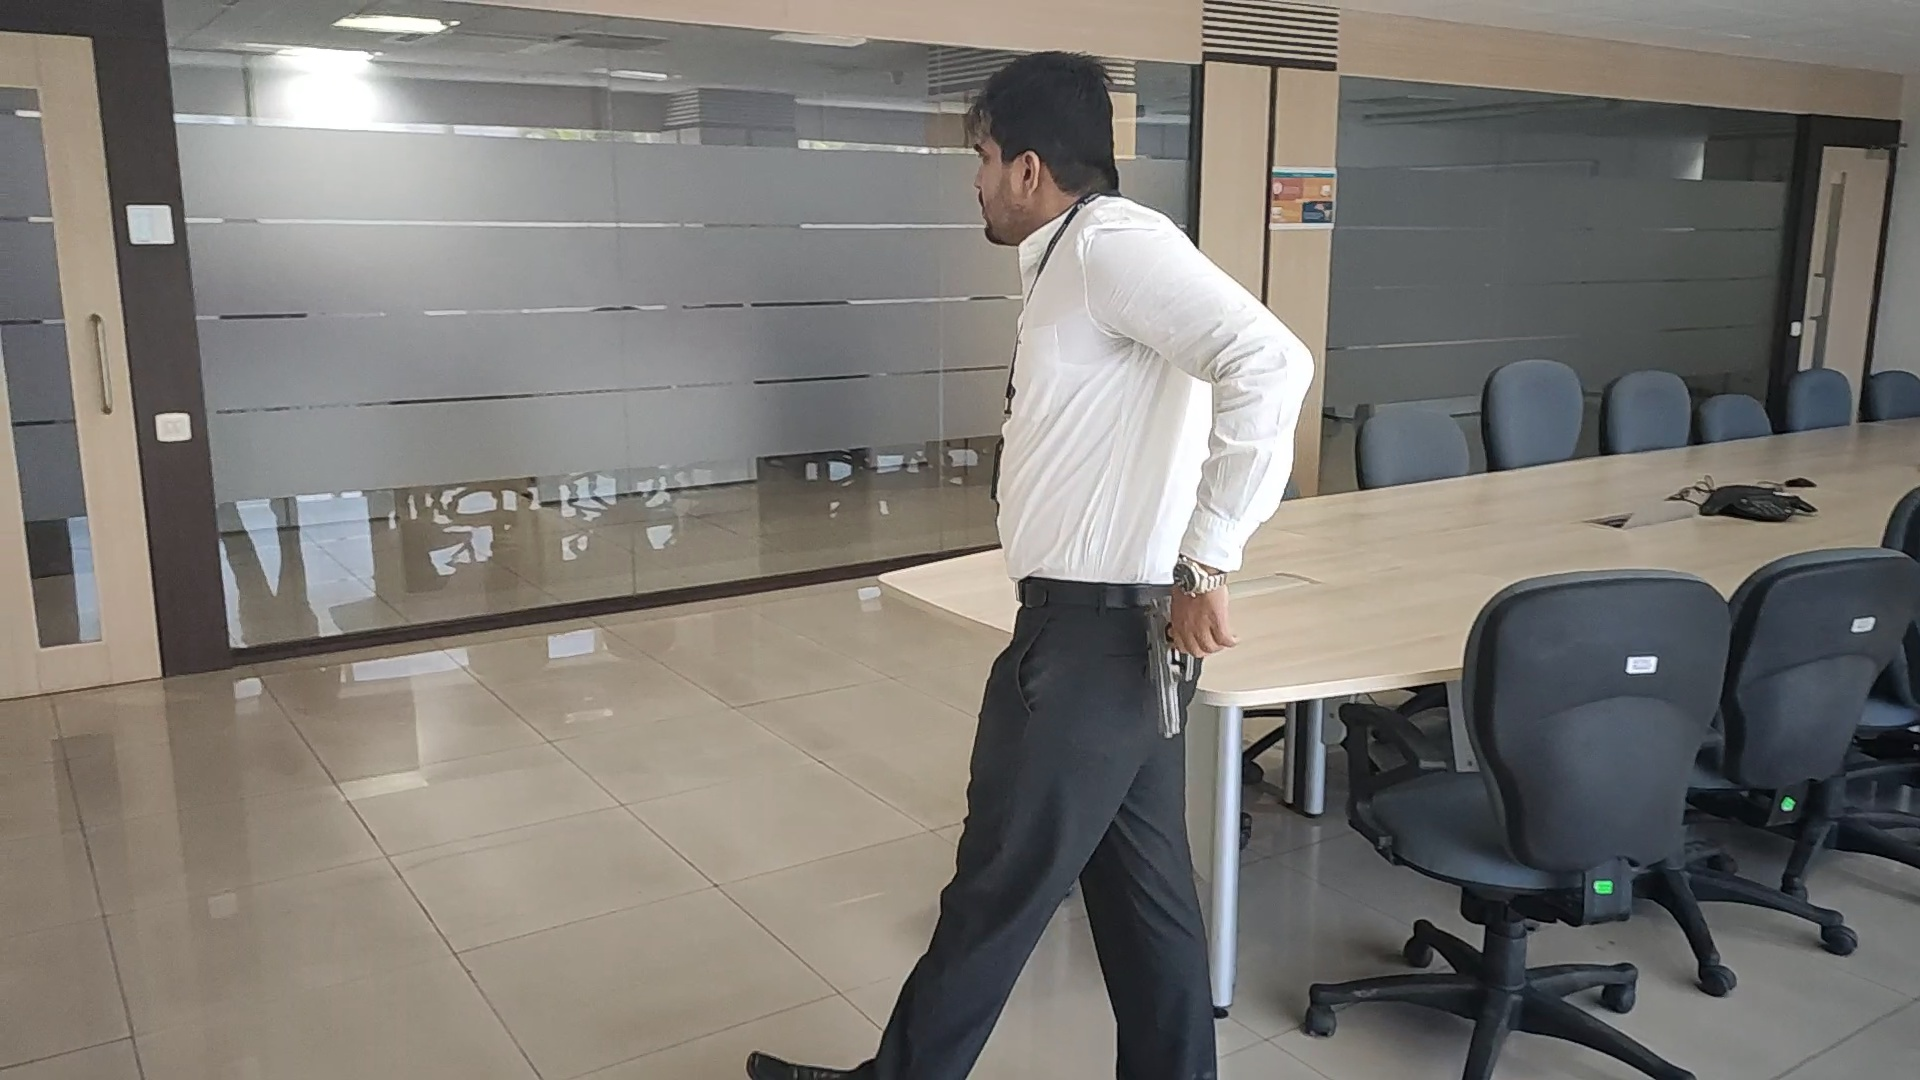gun: (1145, 596, 1195, 740)
